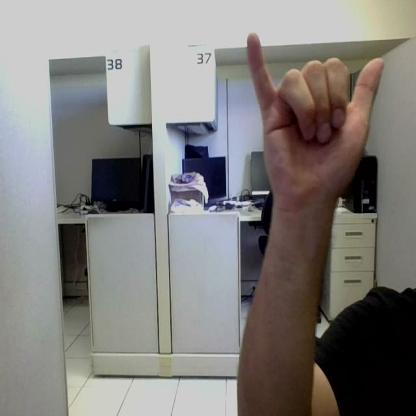Y: (246, 33, 384, 202)
